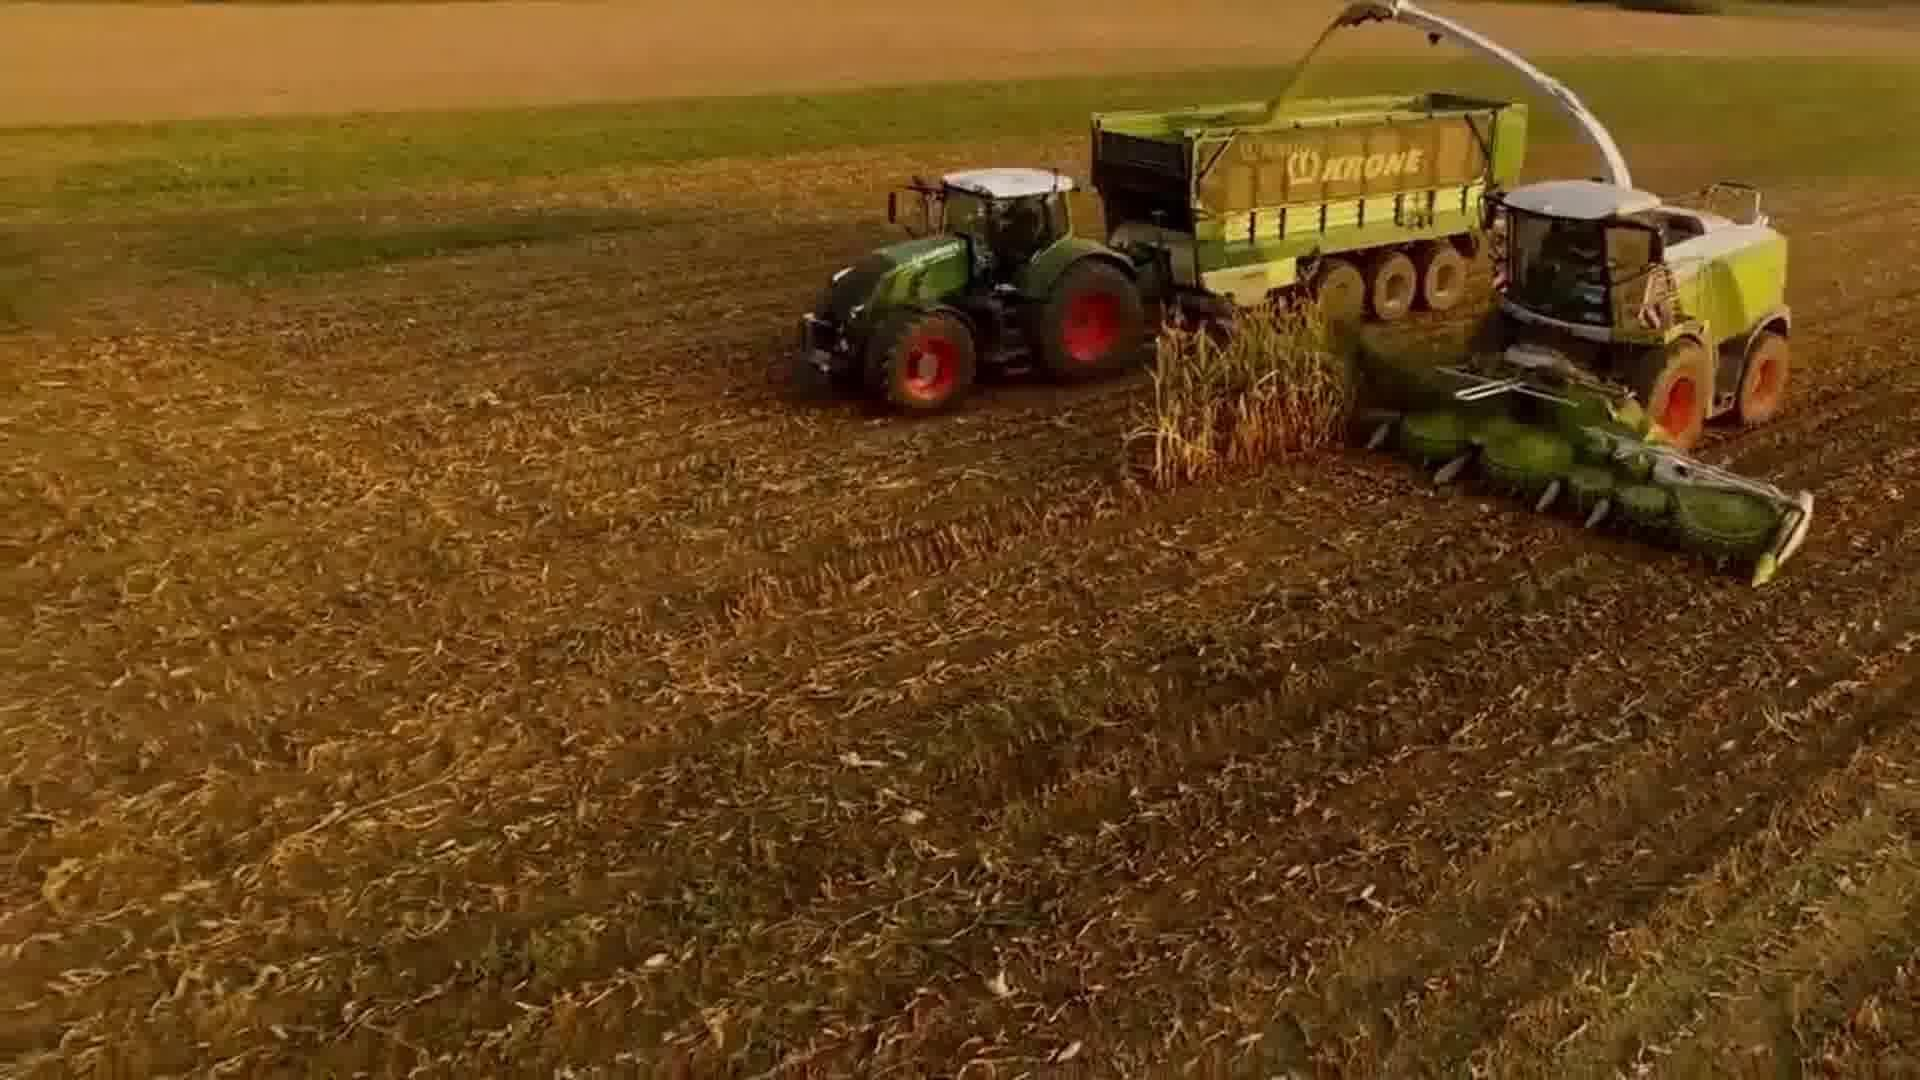combine harvester: (1324, 0, 1823, 597)
tractor: (780, 161, 1156, 420)
trailer: (1084, 83, 1537, 334)
